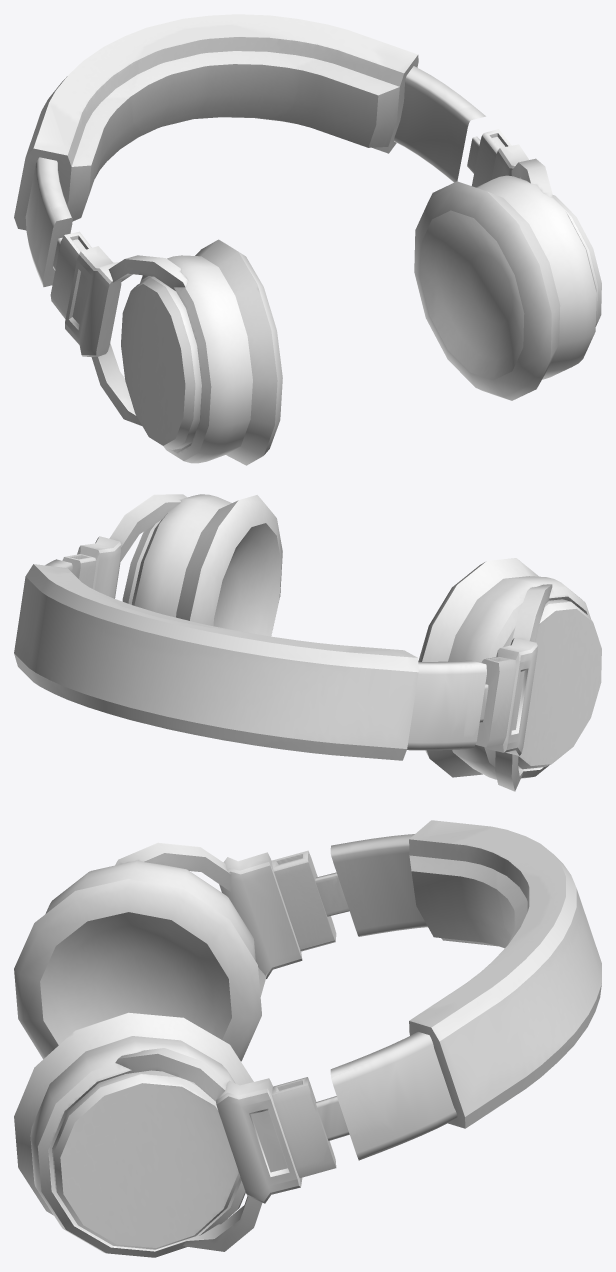
3 renders of one model, top to bottom at view 1: azimuth 30°, elevation 25°; view 2: azimuth 150°, elevation 25°; view 3: azimuth 270°, elevation 25°, orthographic. The views are drawn at different scales.
Parts seen in each view (by area): view 1: geometry_0; view 2: geometry_0; view 3: geometry_0.
Part boxes in pixels (x1=…): geometry_0: x1=14, y1=14, x2=601, y2=465; geometry_0: x1=14, y1=494, x2=601, y2=791; geometry_0: x1=14, y1=820, x2=601, y2=1257.
Size of the model in its own units: 1.14 by 0.6425 by 1.19.
1 material, 1 textured.
